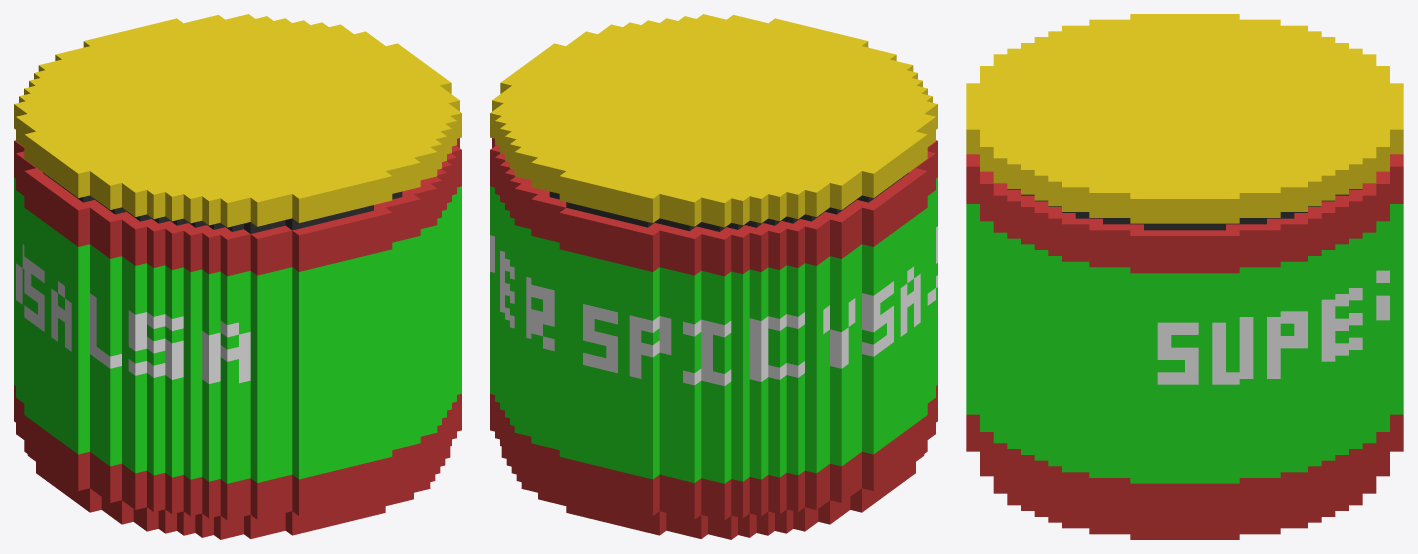
The model's file is salsa.gltf.
3 renders of one model, left to right at view 1: azimuth 30°, elevation 25°; view 2: azimuth 150°, elevation 25°; view 3: azimuth 270°, elevation 25°, orthographic.
Parts seen in each view (by area): view 1: Layer.1; view 2: Layer.1; view 3: Layer.1.
Part boxes in pixels (<box>): Layer.1: <box>14,14,461,539</box>; Layer.1: <box>490,14,937,539</box>; Layer.1: <box>966,14,1403,539</box>.
Bounding box in the file's own units: 32 × 28 × 32.
1 material, 1 textured.
